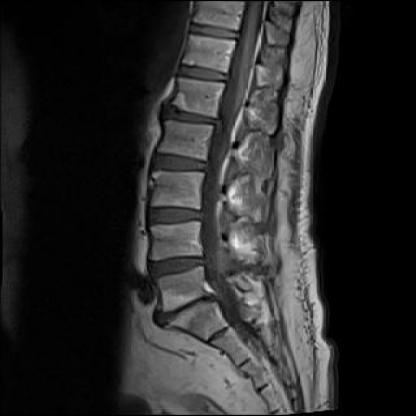Degenerative Disc Diseaserotation: (143, 249, 220, 282), (147, 294, 235, 321)
Disc Bulgerotation: (148, 293, 236, 321), (143, 250, 218, 282)
Disc Relaxationrotation: (152, 98, 225, 134), (149, 149, 213, 180), (143, 202, 207, 233)
